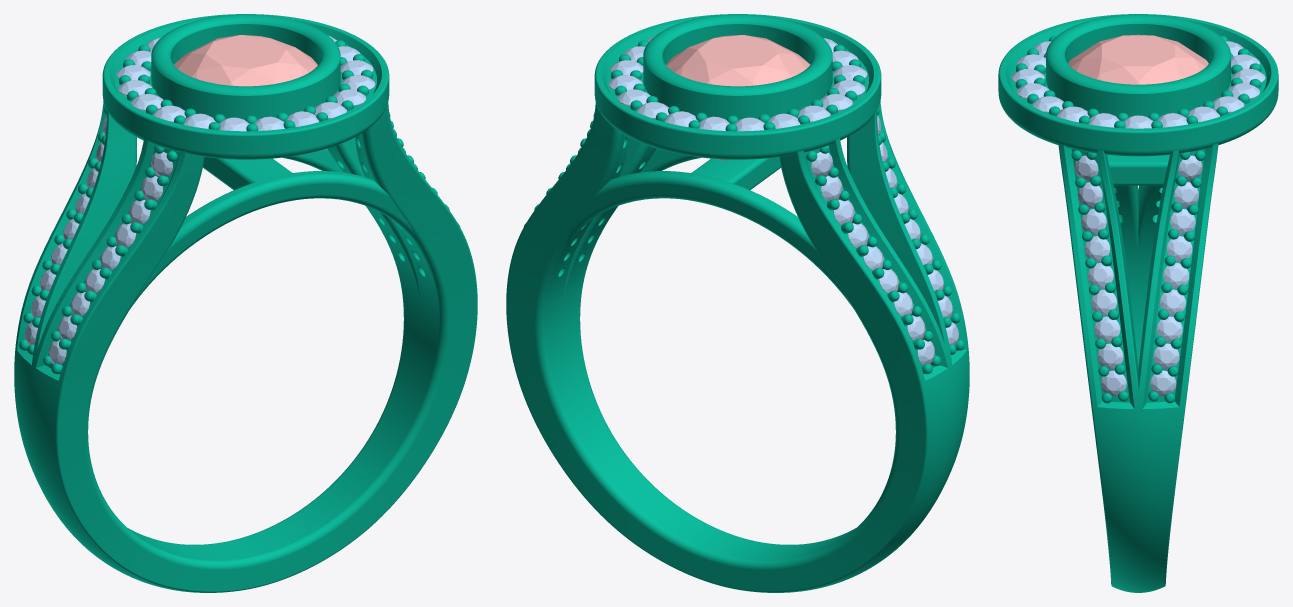
3 views of the same model, side by side, from view 1: azimuth 30°, elevation 25°; view 2: azimuth 150°, elevation 25°; view 3: azimuth 270°, elevation 25° (orthographic). The views are drawn at different scales.
Visible parts, largest first — view 1: JTC-4566(front).3dm, Diamond_Round; view 2: JTC-4566(front).3dm, Diamond_Round; view 3: JTC-4566(front).3dm, Diamond_Round (×19).
Boxes of the visible parts, bbox=[...] form: JTC-4566(front).3dm: bbox=[14, 14, 477, 592]; Diamond_Round: bbox=[173, 35, 317, 86]; JTC-4566(front).3dm: bbox=[506, 14, 969, 592]; Diamond_Round: bbox=[666, 35, 810, 86]; JTC-4566(front).3dm: bbox=[998, 14, 1278, 592]; Diamond_Round (×19): bbox=[1068, 34, 1208, 396].
Size of the model in its own units: 2.43 by 2.86 by 1.4.
